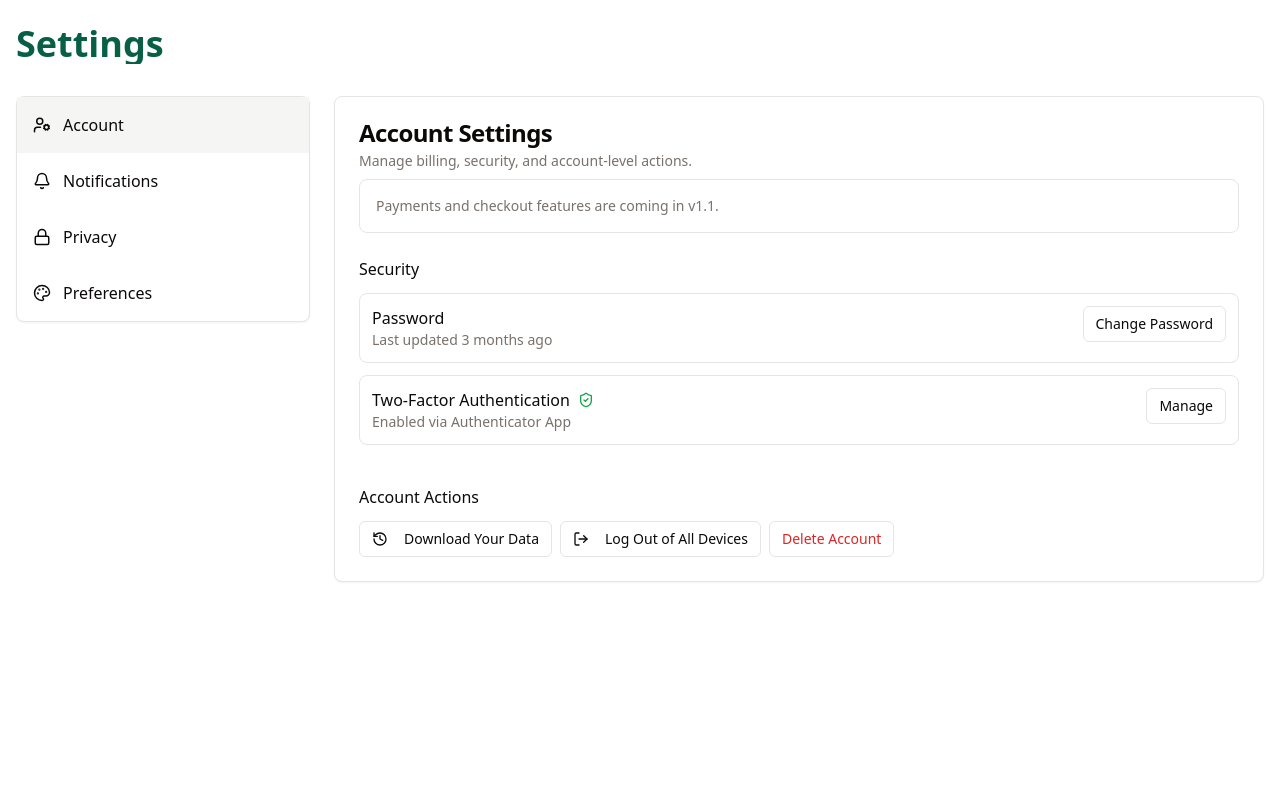
it: Settings page (App Settings hub) › Change Password dialog › shows a reauth error and does not update the password on wrong current password
Click the button with test id "settings-tab-account" at (93, 125), box [17,97,309,153]
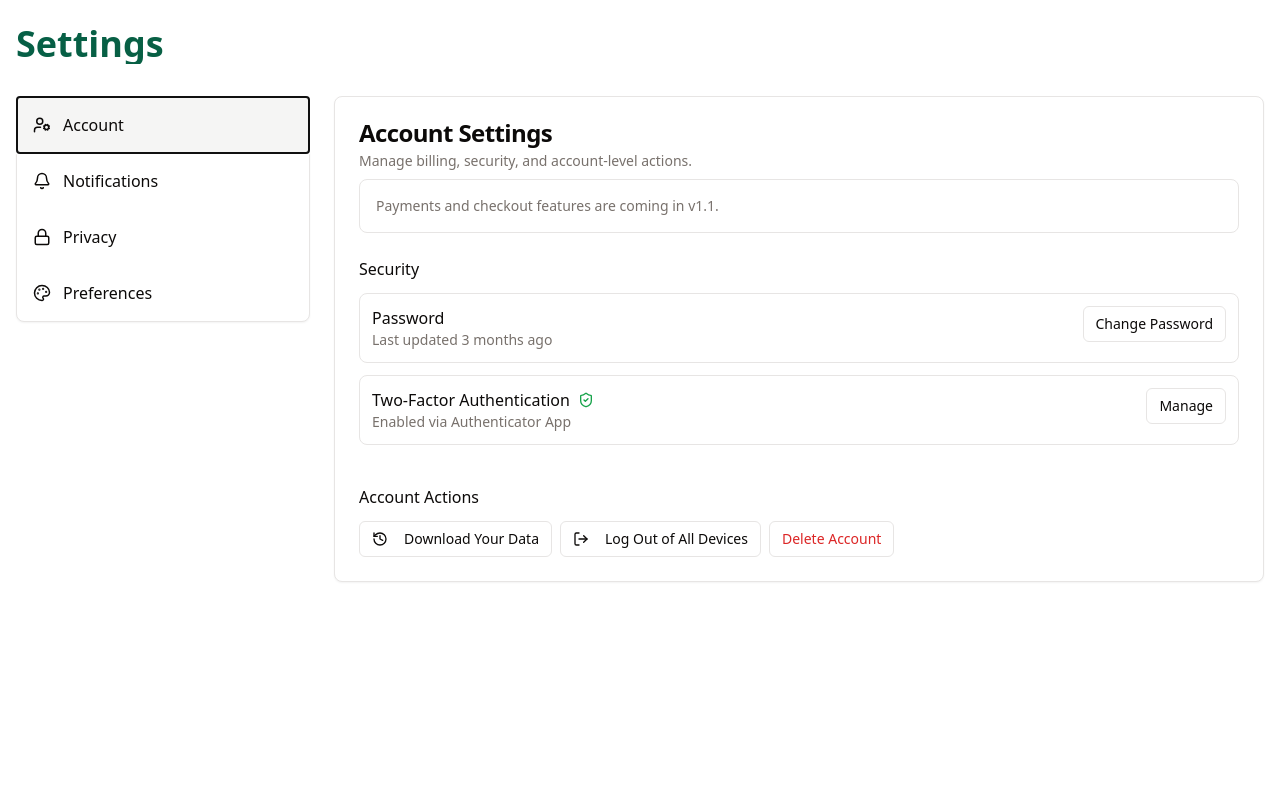
Click the button "Change Password" at (1154, 324), box [1082,306,1226,342]
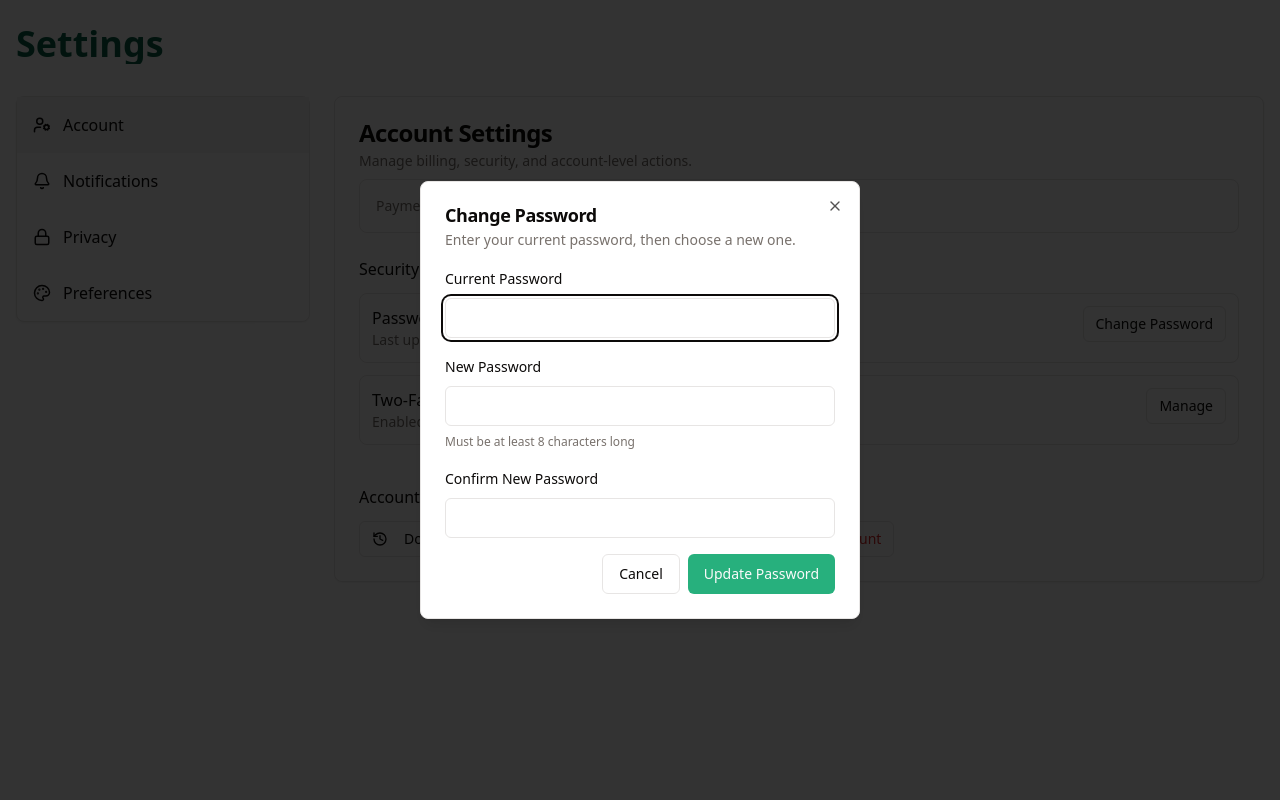
Type "wrongpass" into the password field with test id "change-password-current-input" at (640, 318), box [445,298,835,338]
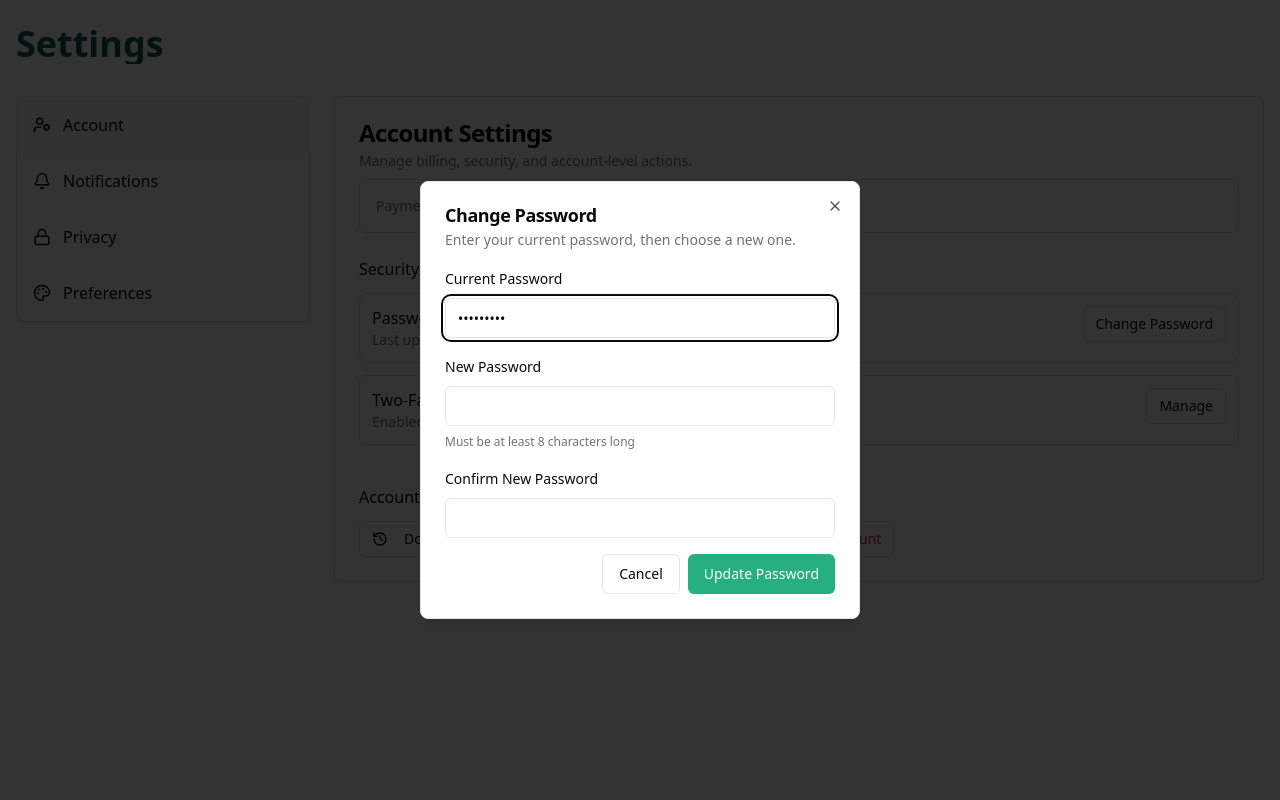
Type "NewStrong1!" into the password field with test id "change-password-new-input" at (640, 406), box [445,386,835,426]
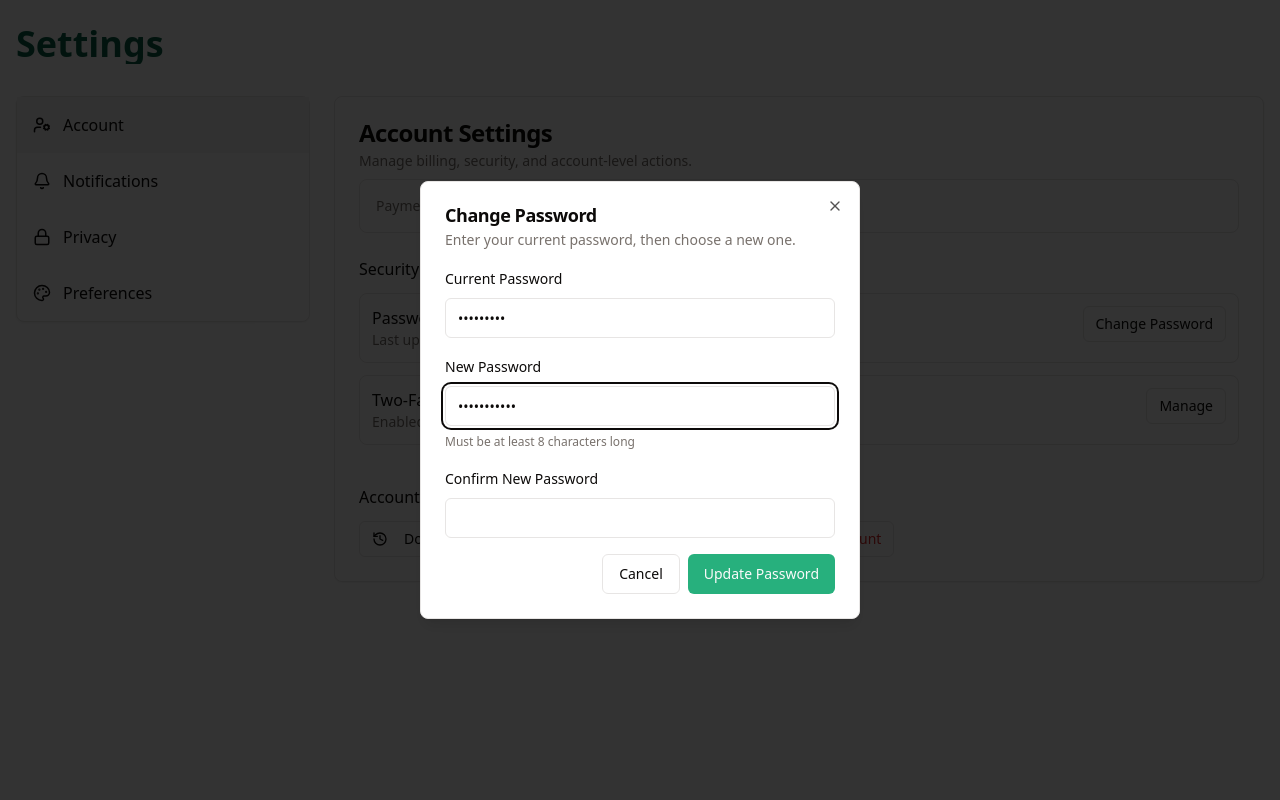
Type "NewStrong1!" into the password field with test id "change-password-confirm-input" at (640, 518), box [445,498,835,538]
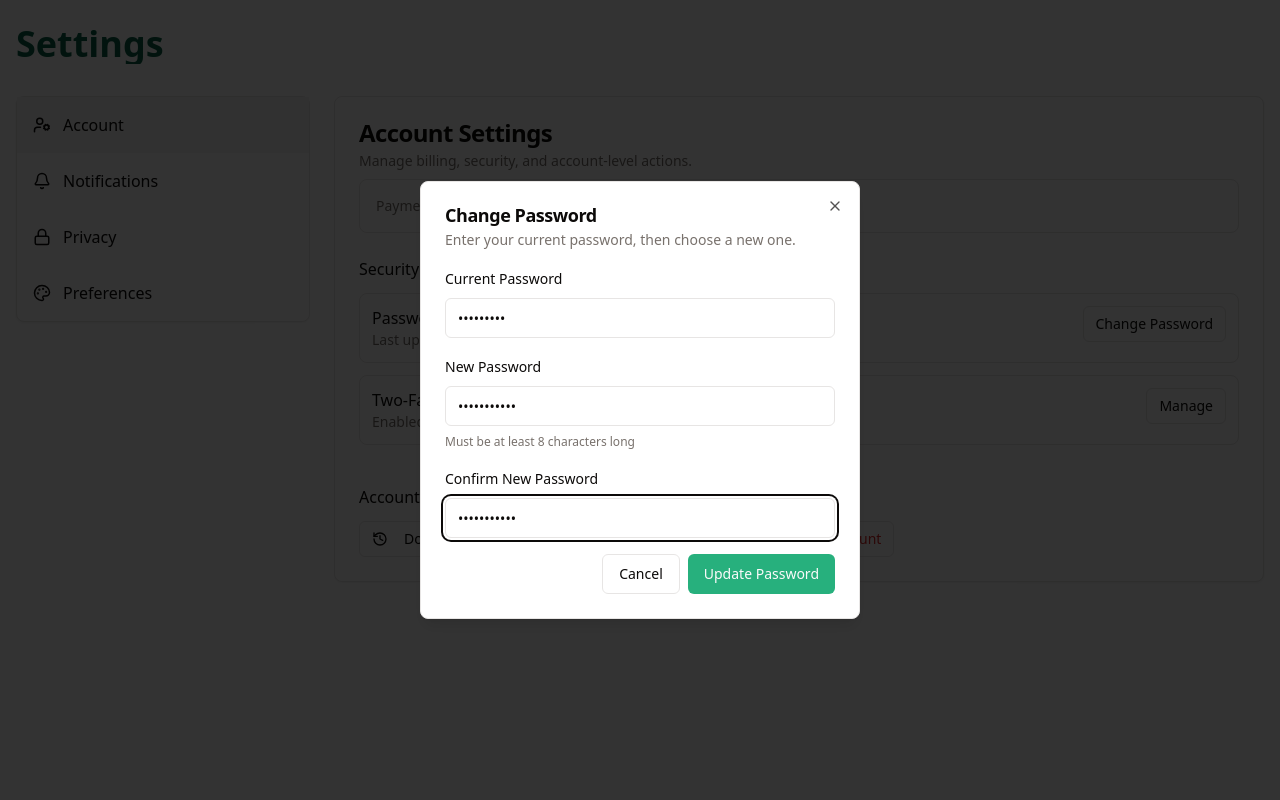
Click the button with test id "change-password-submit" at (761, 574), box [688,554,835,594]
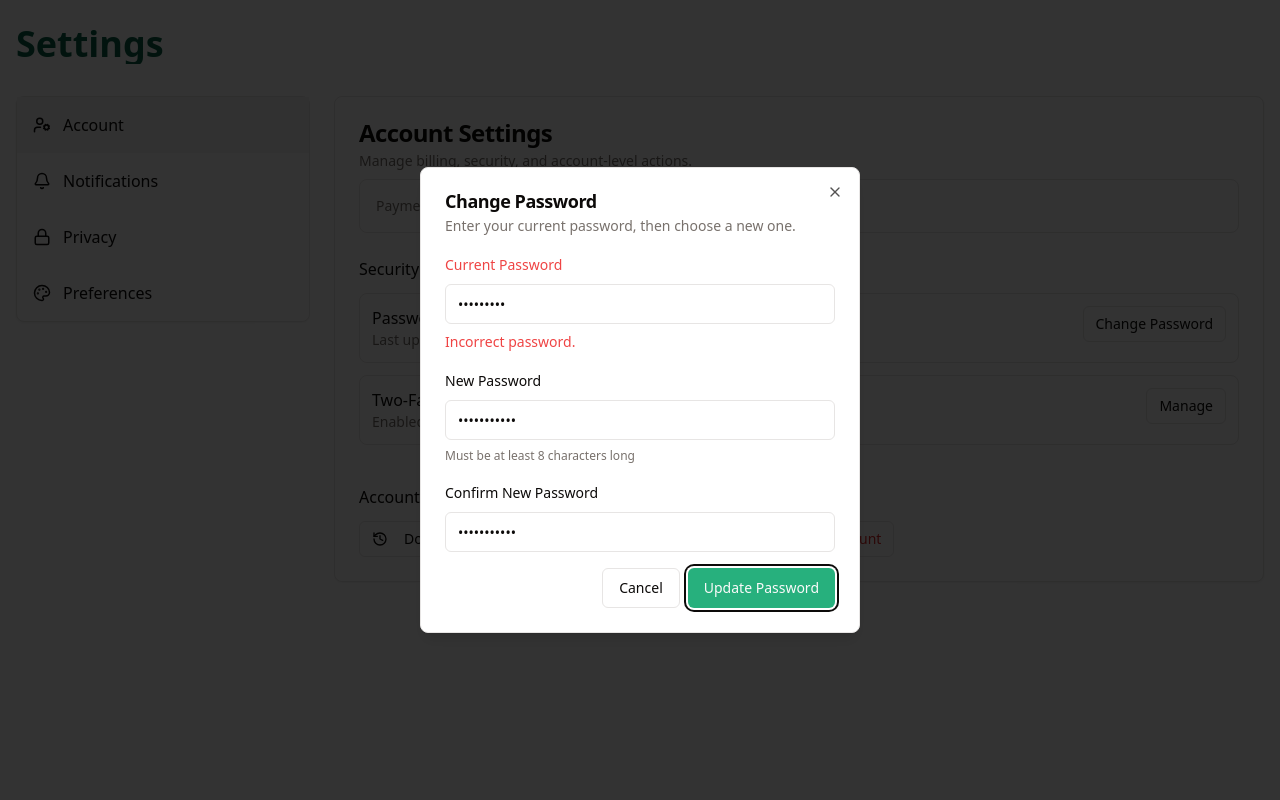
Expected: the text "Incorrect password." is shown, [445,332,575,351]
